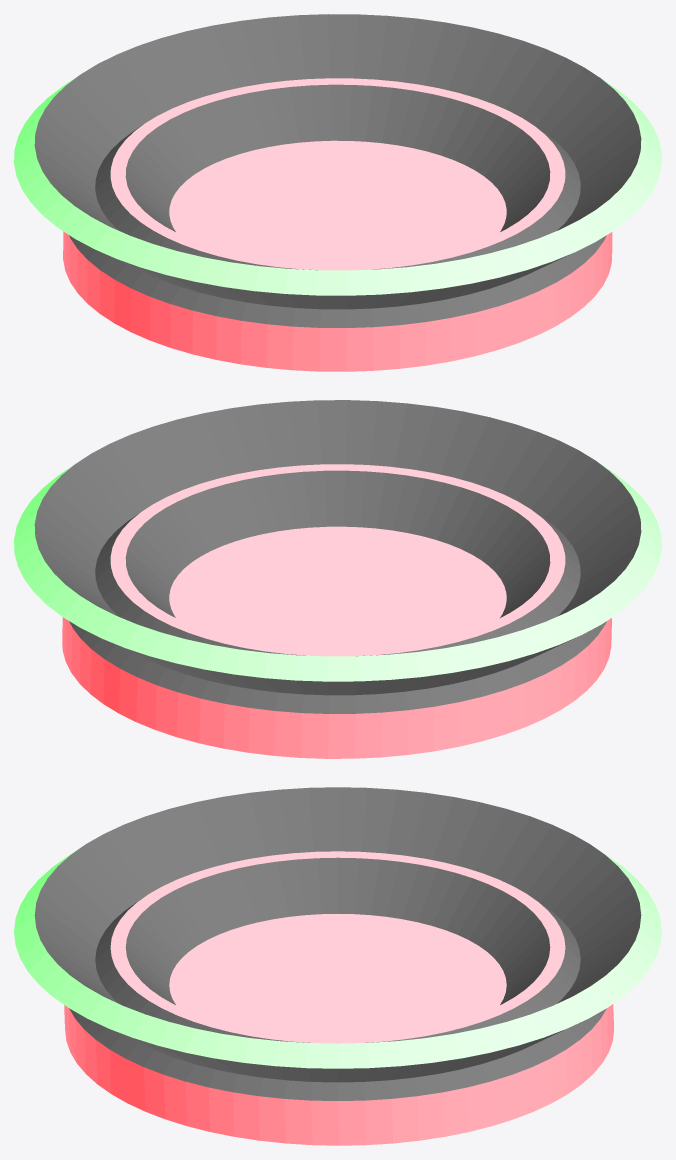
The model's file is MortarDefender fire 2.fbx.
3 renders of one model, top to bottom at view 1: azimuth 30°, elevation 25°; view 2: azimuth 150°, elevation 25°; view 3: azimuth 270°, elevation 25°, orthographic.
Parts seen in each view (by area): view 1: MortarDefender fire 2; view 2: MortarDefender fire 2; view 3: MortarDefender fire 2.
Part boxes in pixels (x1,y1,x2,y2): MortarDefender fire 2: [14, 14, 661, 371]; MortarDefender fire 2: [14, 400, 661, 758]; MortarDefender fire 2: [14, 787, 661, 1145].
Bounding box in the file's own units: 38.79 × 7.54 × 38.79.
